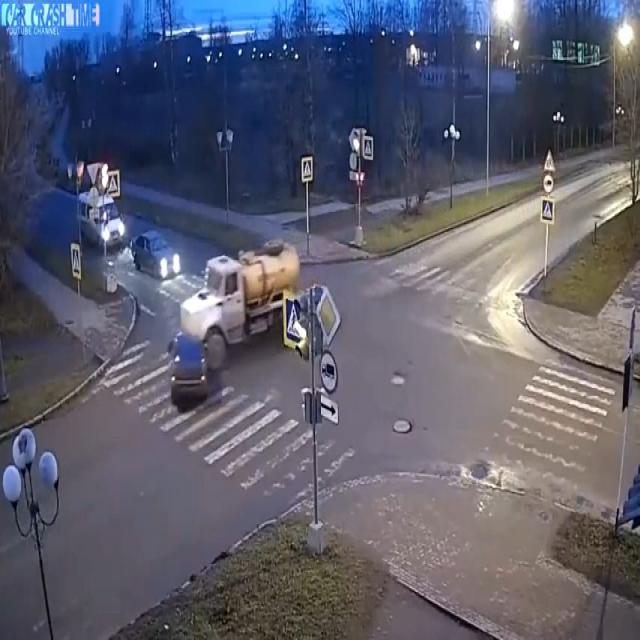Accident: (161, 231, 318, 428)
